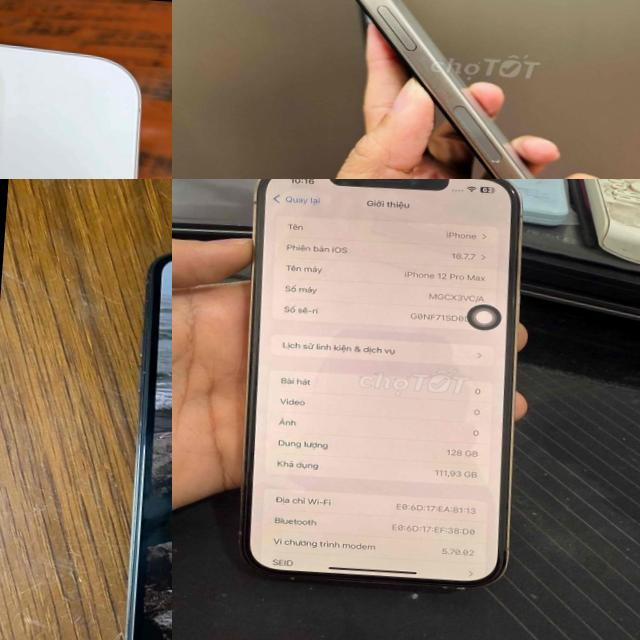gen_11: (104, 245, 172, 640)
gen_12_13: (215, 179, 545, 600)
gen_15: (255, 0, 626, 179)
gen_16: (0, 0, 161, 179)
